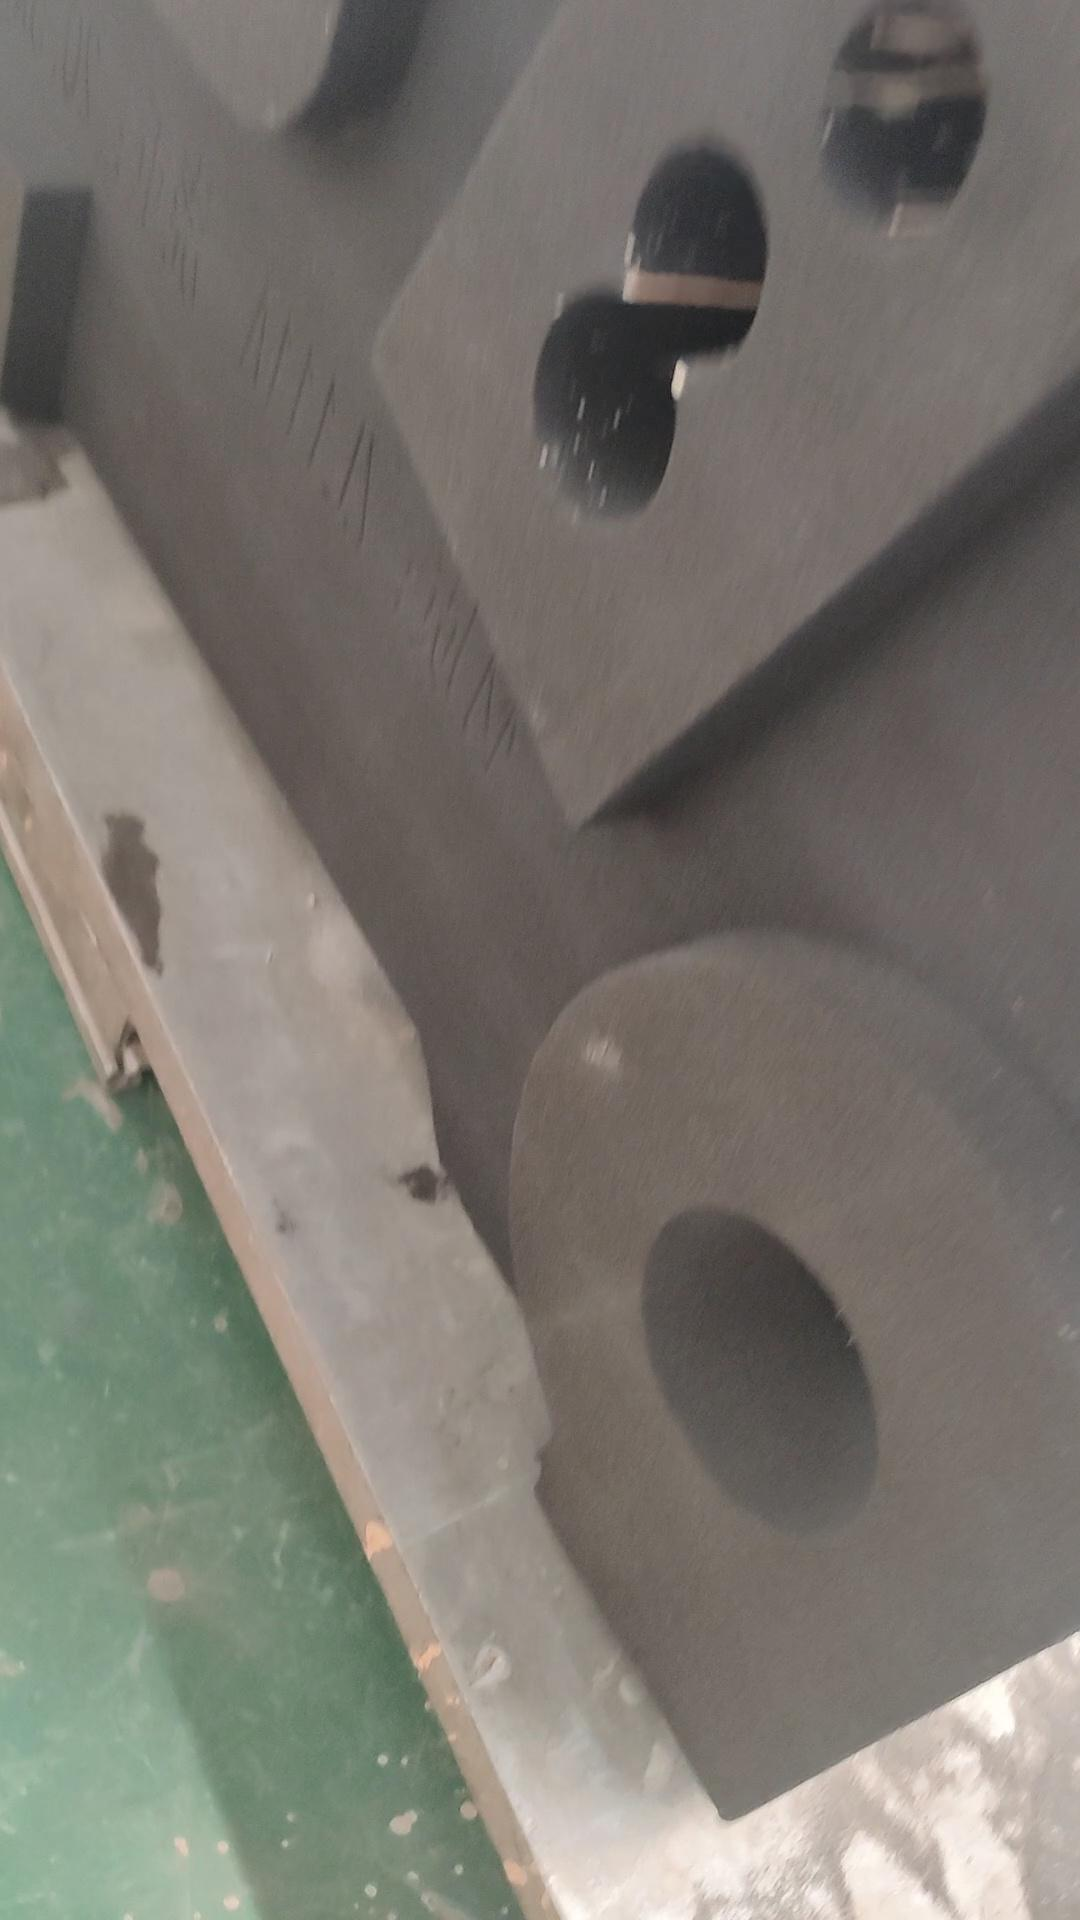pouring hole: (642, 1203, 880, 1539)
